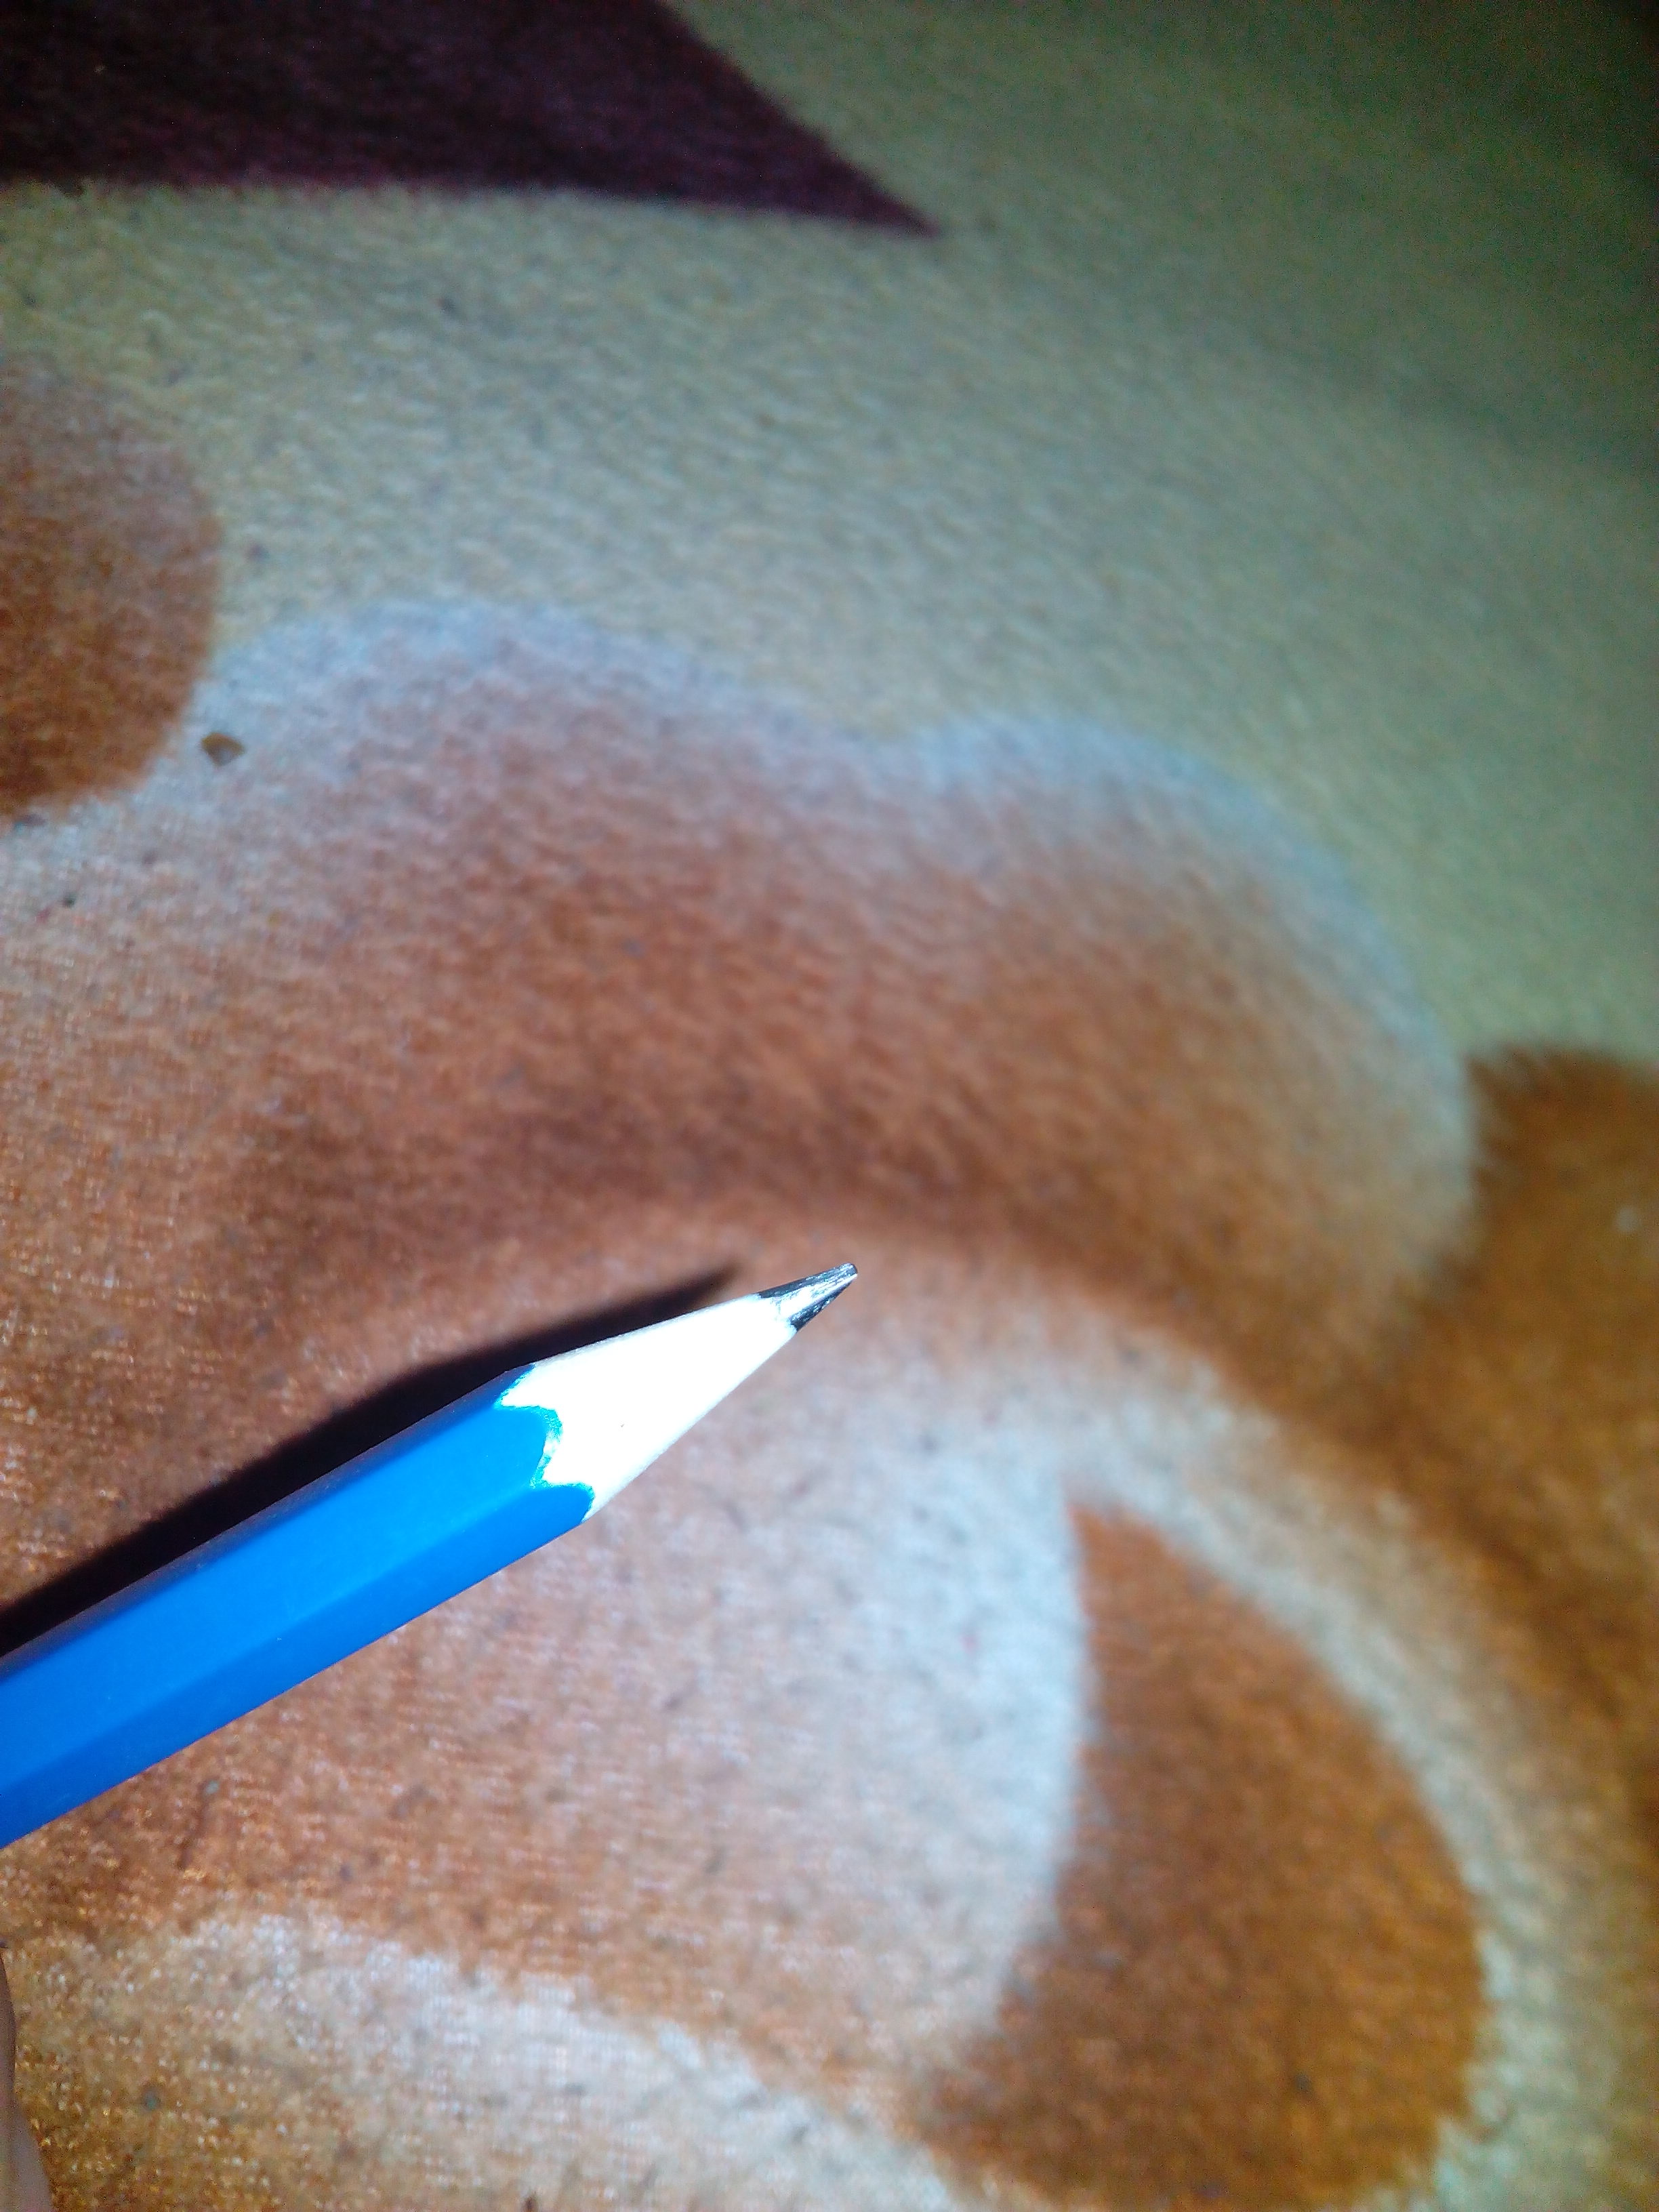pen_tip: (390, 1045, 972, 1677)
